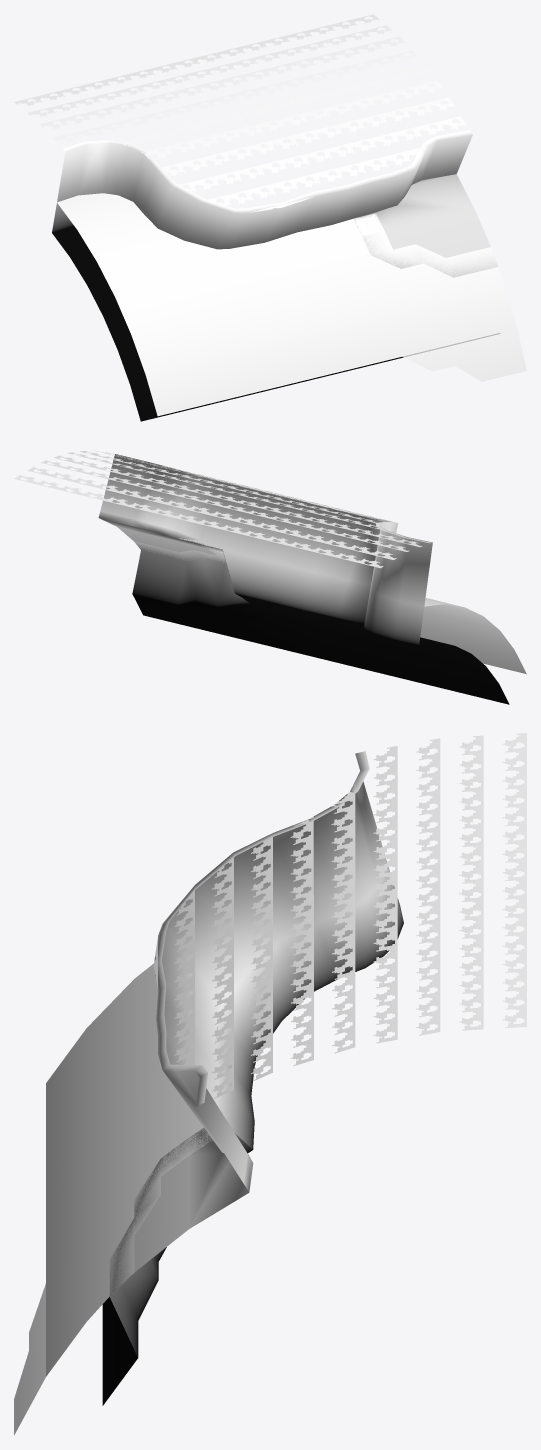
The model's file is grd_Msw_s_E_2.dae.
3 views of the same model, one above another, from view 1: azimuth 30°, elevation 25°; view 2: azimuth 150°, elevation 25°; view 3: azimuth 270°, elevation 25° (orthographic). The views are drawn at different scales.
Visible parts, largest first — view 1: grd_Msw_s_E_2; view 2: grd_Msw_s_E_2; view 3: grd_Msw_s_E_2.
Boxes of the visible parts, x1,y1,x2,y2 form: grd_Msw_s_E_2: (14,14,526,421); grd_Msw_s_E_2: (14,450,526,704); grd_Msw_s_E_2: (14,733,526,1435).
Bounding box in the file's own units: 512 × 332 × 378.
Materials: 7 (1 with a texture image).
